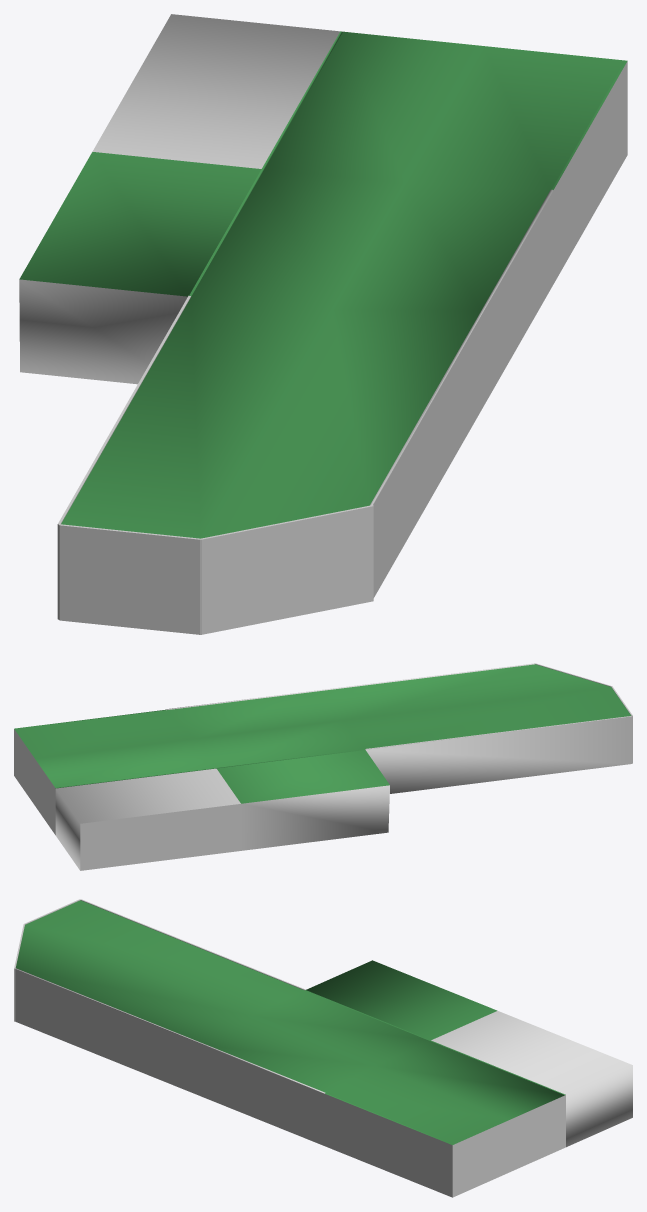
Rendered from quais5.fbx.
The picture shows the model from 3 angles, top to bottom: view 1: azimuth 30°, elevation 25°; view 2: azimuth 150°, elevation 25°; view 3: azimuth 270°, elevation 25°; orthographic projection. The views are drawn at different scales.
Visible parts, largest first — view 1: quais5; view 2: quais5; view 3: quais5.
Boxes of the visible parts, left/top/right/bottom form: quais5: left=19, top=14, right=627, bottom=634; quais5: left=14, top=663, right=632, bottom=870; quais5: left=14, top=899, right=632, bottom=1197.
Bounding box in the file's own units: 1425 × 144 × 1519.
